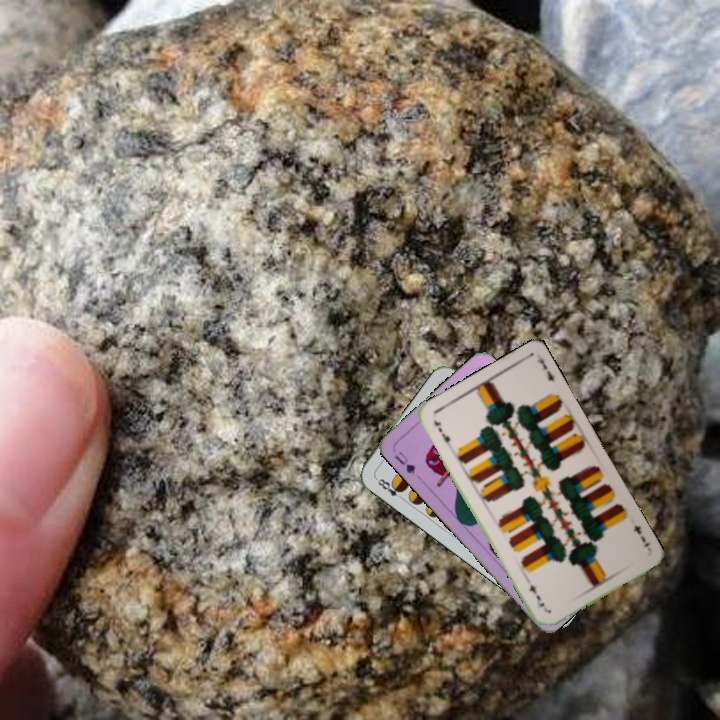E7: (430, 416, 455, 451), (629, 521, 652, 549)
E8: (372, 474, 407, 503)
GU: (390, 448, 418, 477)
